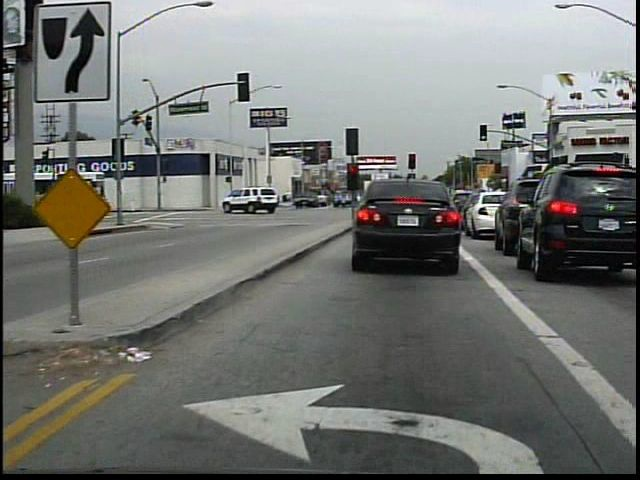person: (83, 189, 103, 226)
